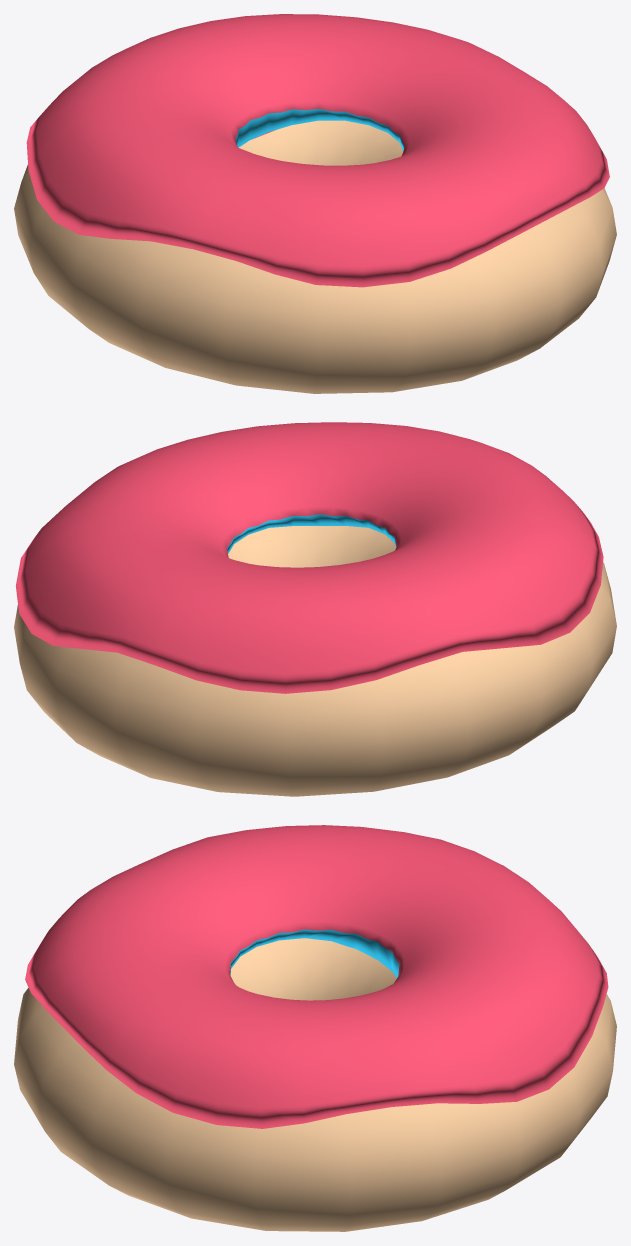
Rendered from ToyObject_179.fbx.
3 renders of one model, top to bottom at view 1: azimuth 30°, elevation 25°; view 2: azimuth 150°, elevation 25°; view 3: azimuth 270°, elevation 25°, orthographic.
Visible parts, largest first — view 1: object-1.072; view 2: object-1.072; view 3: object-1.072.
Boxes of the visible parts, x1=… form: object-1.072: x1=14, y1=14, x2=616, y2=393; object-1.072: x1=14, y1=422, x2=616, y2=796; object-1.072: x1=14, y1=825, x2=616, y2=1231.
Bounding box in the file's own units: 0.134 × 0.0548 × 0.1342.
